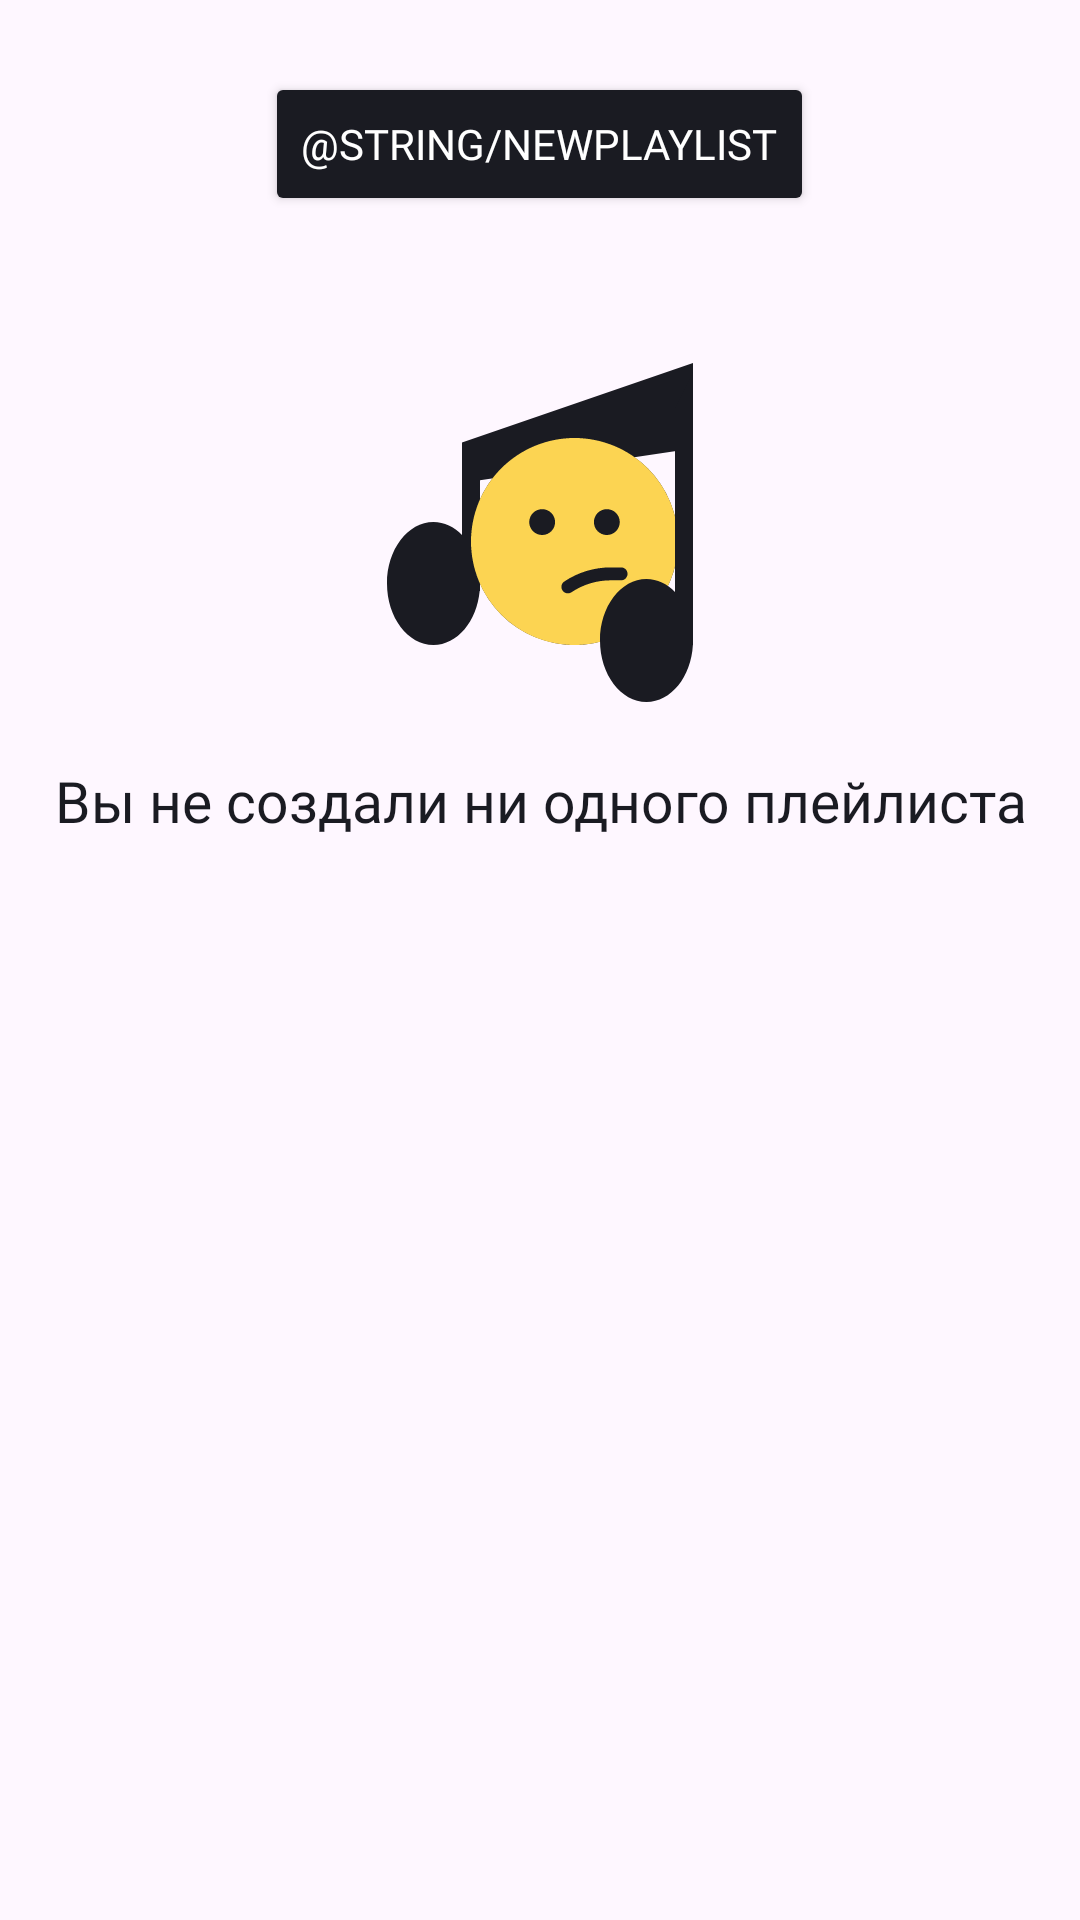

Icon click points for this 1080*1920 phone screenshot, format (x=x, y=y):
nothing found: (x=540, y=532)
